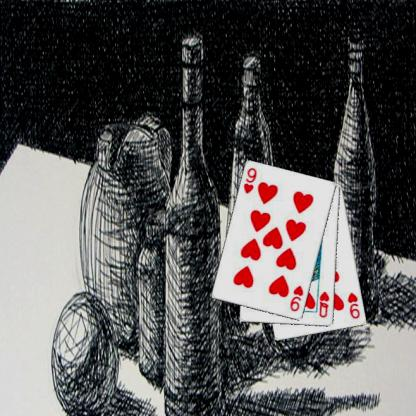9H: (345, 289, 362, 320), (241, 165, 258, 195), (288, 283, 304, 313)
QH: (316, 289, 330, 319)
